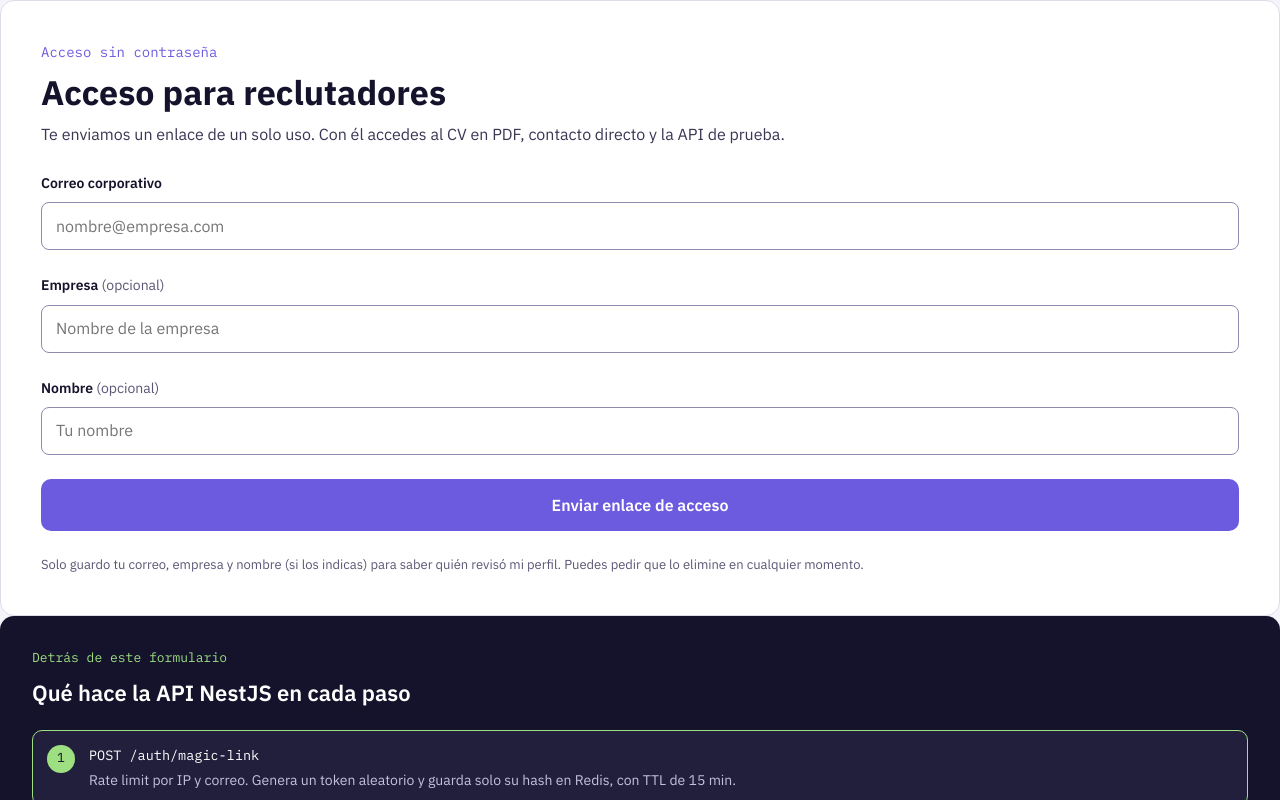
Test case: LoginContainer › treats a gateway that cannot even load as a network failure
In the field labelled "Correo corporativo": [640, 226] box [41,202,1239,250], type "ana@empresa.com"
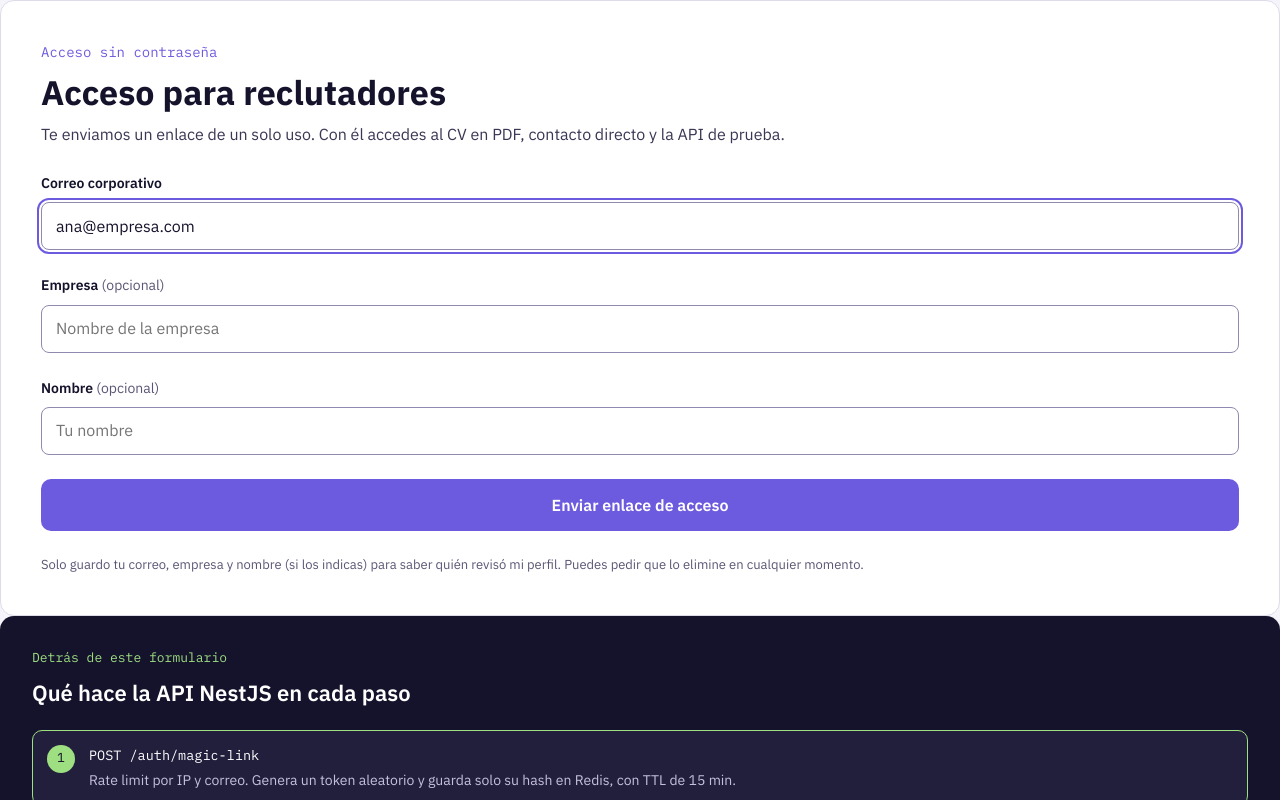
Click the button "Enviar enlace de acceso": [640, 505] box [41,479,1239,531]
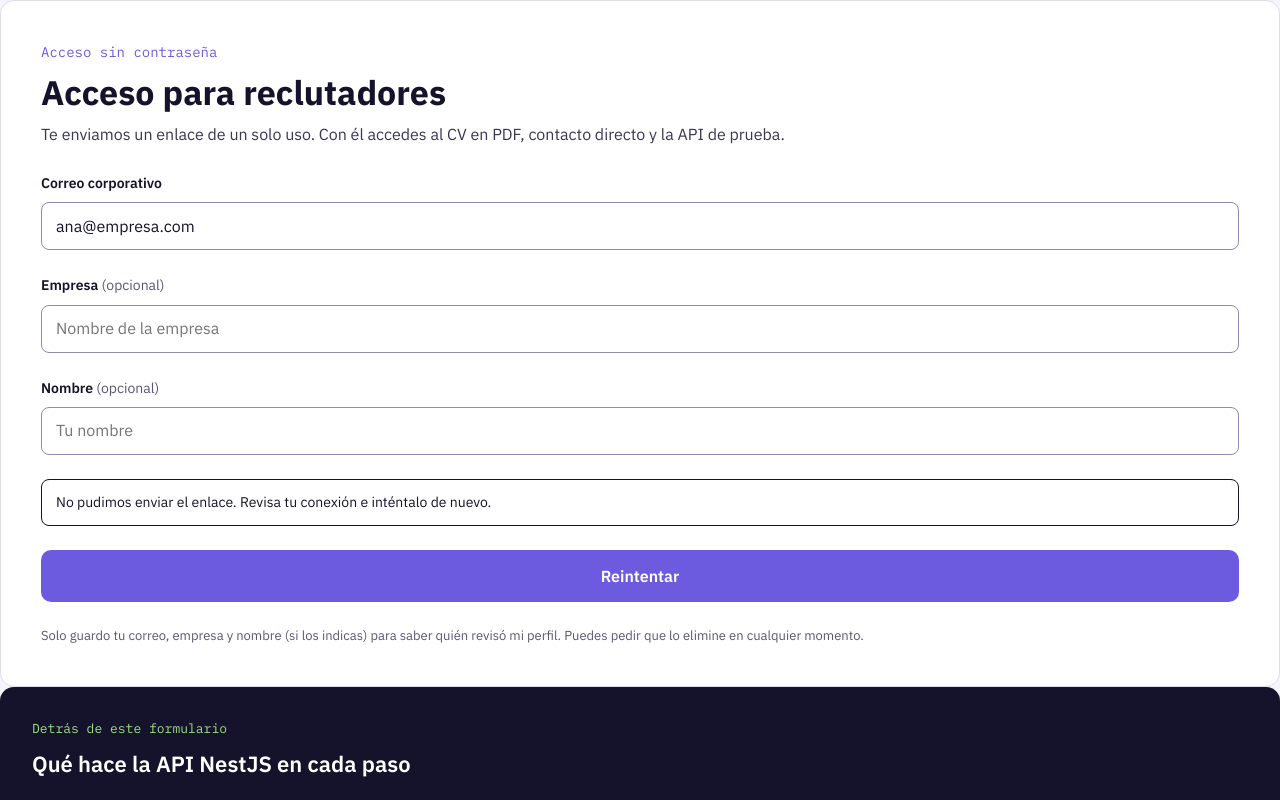
expect the message shows "No pudimos enviar el enlace": met, box [56,493,491,511]
